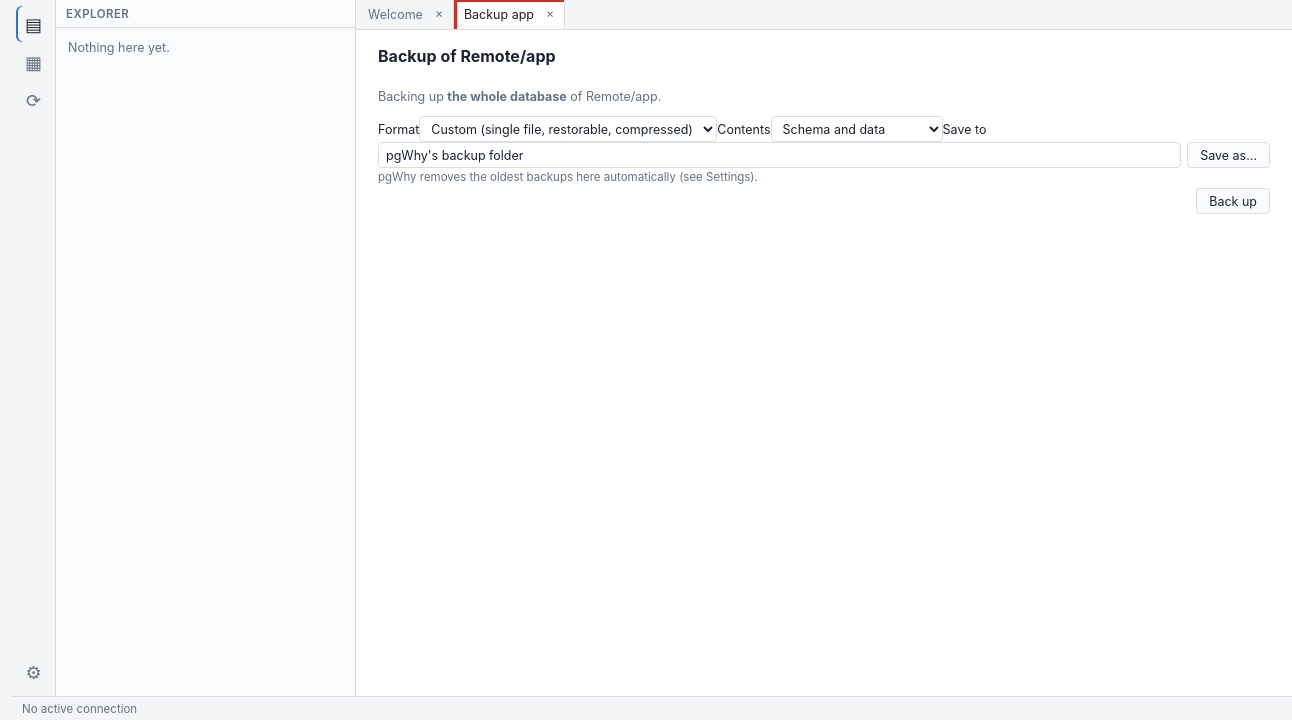
save as › brings the form back when the choice is refused, so it can be corrected
Expected: the text "Backing up the whole database of Remote/app." is shown, [378,88,661,104]
Click the button "Save as…": (1229, 155) [1187,142,1270,168]
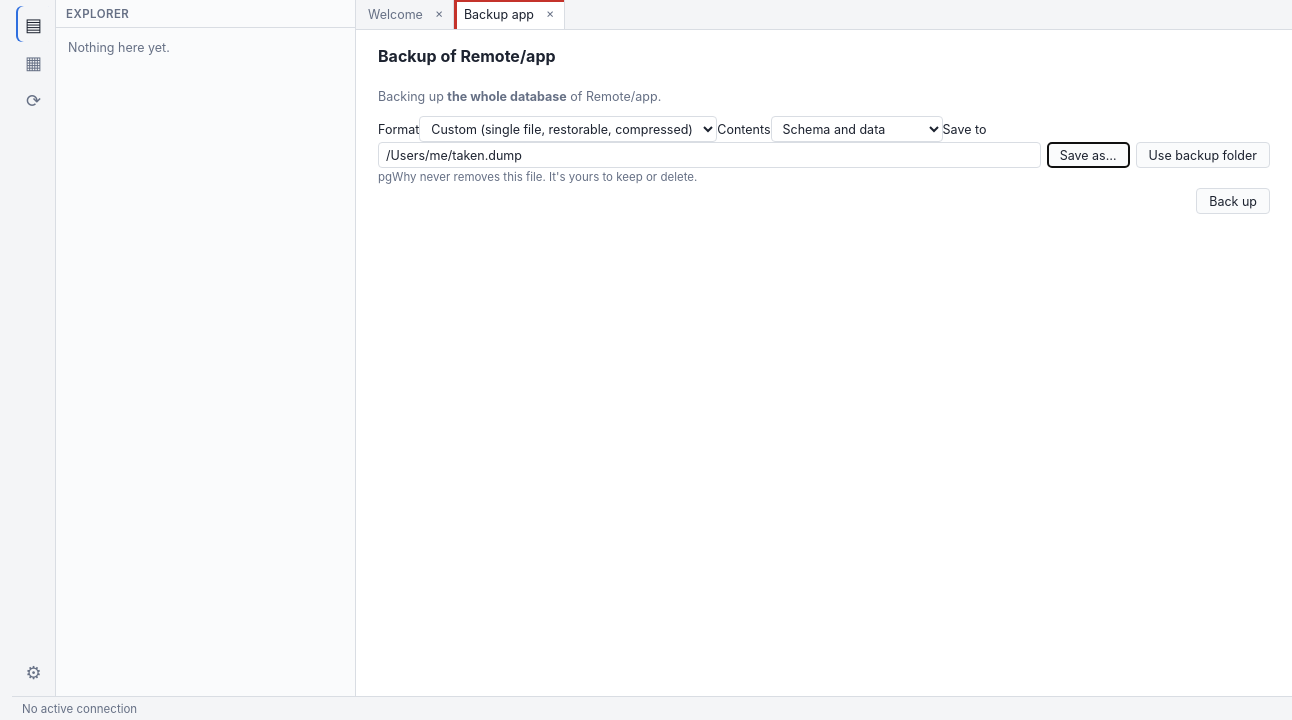
Expected: the field showing "/Users/me/taken.dump" is shown, [378,142,1041,168]
Click the button "Back up": (1233, 201) [1196,188,1270,214]
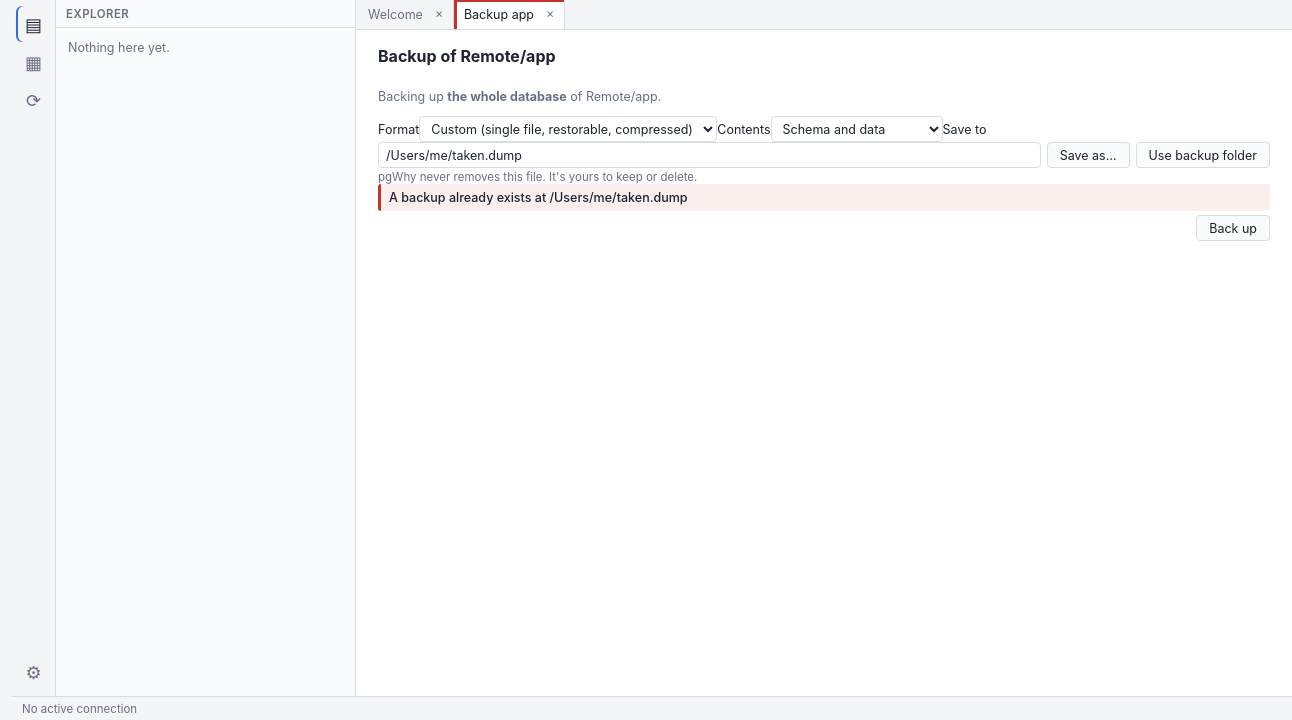
Expected: the button "Back up" is enabled, [1196,215,1270,241]
Expected: the field named "backup location" holds "/Users/me/taken.dump", [378,142,1041,168]
Expected: the text "A backup already exists at /Users/me/taken.dump" is shown once, [389,190,688,205]
